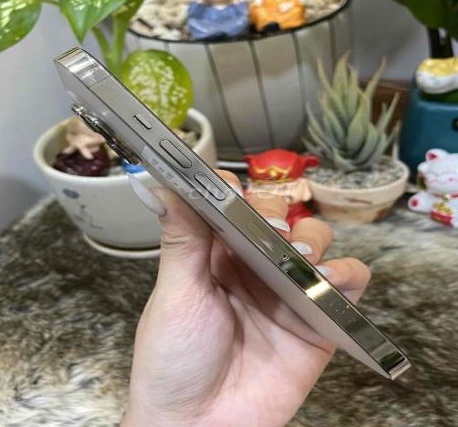scratch: (299, 272, 374, 338), (69, 55, 131, 105)
